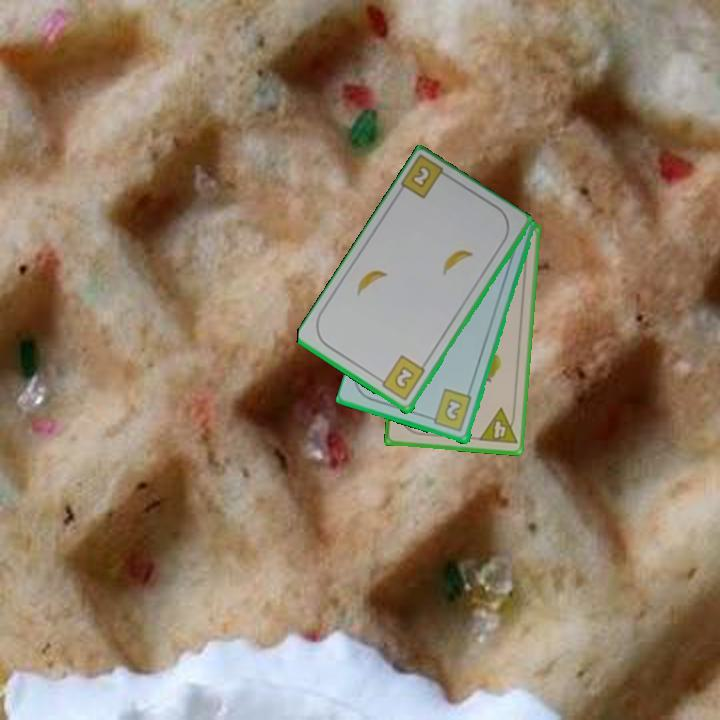2b: (374, 352, 428, 404), (425, 386, 475, 435), (407, 162, 434, 191)
4p: (475, 405, 520, 447)
